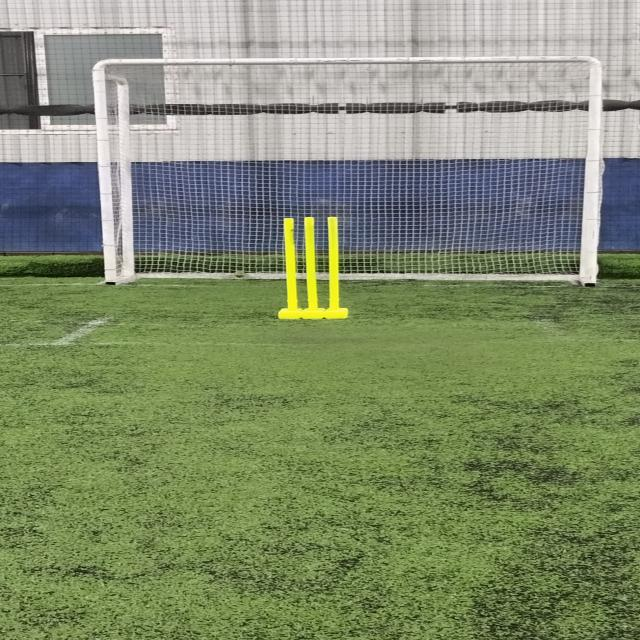stump: (270, 213, 356, 325)
